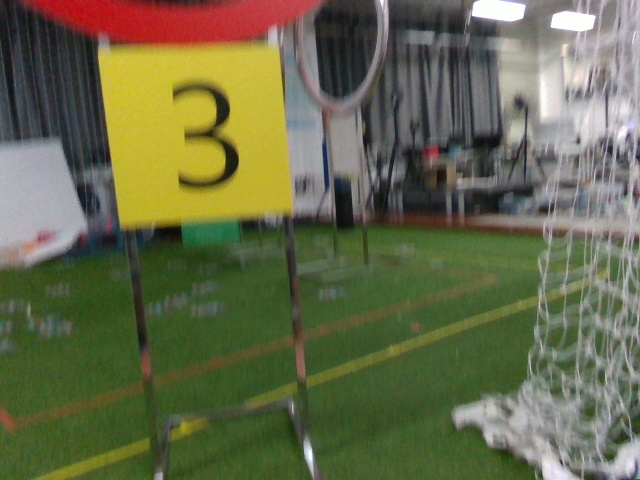target: (104, 44, 278, 206)
